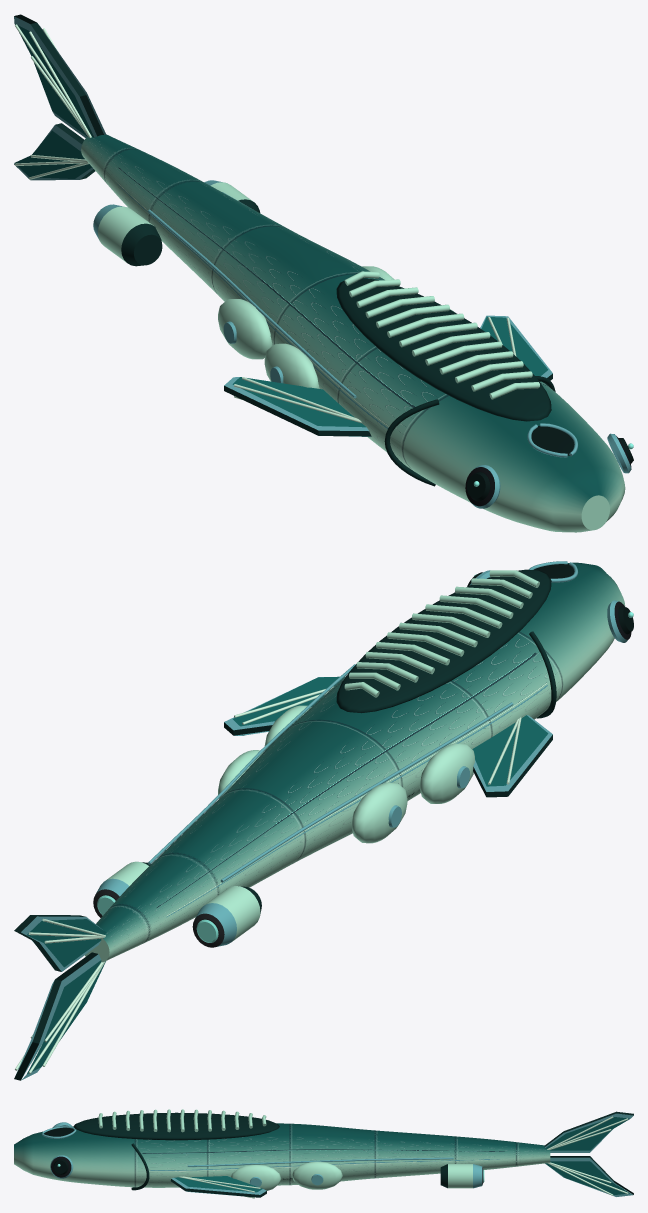
3 renders of one model, top to bottom at view 1: azimuth 30°, elevation 25°; view 2: azimuth 150°, elevation 25°; view 3: azimuth 270°, elevation 25°, orthographic. The views are drawn at different scales.
Visible parts, largest first — view 1: remora_hull; view 2: remora_hull; view 3: remora_hull.
Part boxes in pixels (box(x1,y1,x2,y2)): remora_hull: box(14, 14, 633, 532); remora_hull: box(14, 561, 633, 1080); remora_hull: box(14, 1109, 633, 1198).
Size of the model in its own units: 10.78 by 5.66 by 38.
Materials: 1 (1 with a texture image).
